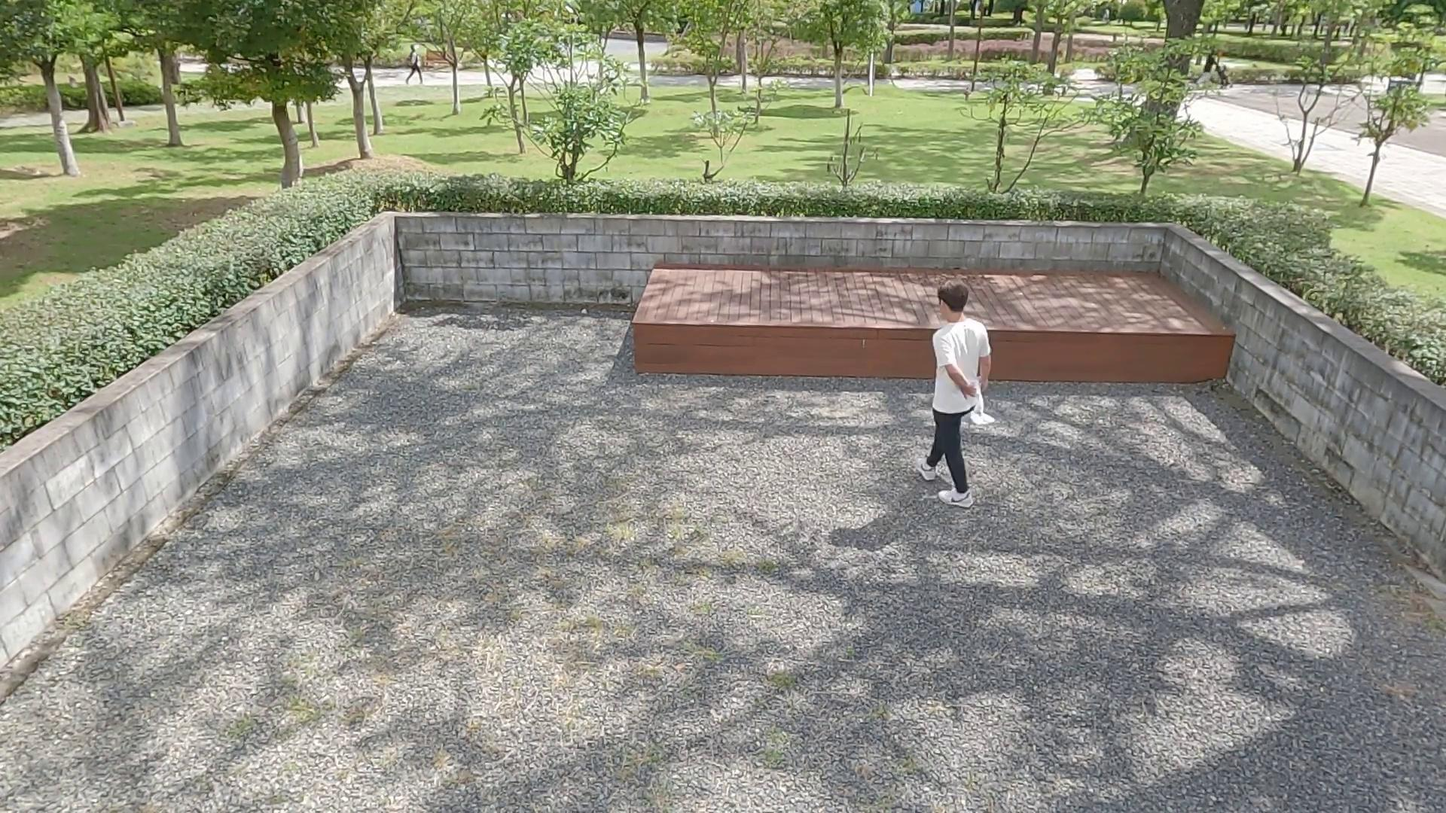person: (914, 278, 1002, 513)
trash: (960, 380, 998, 433)
